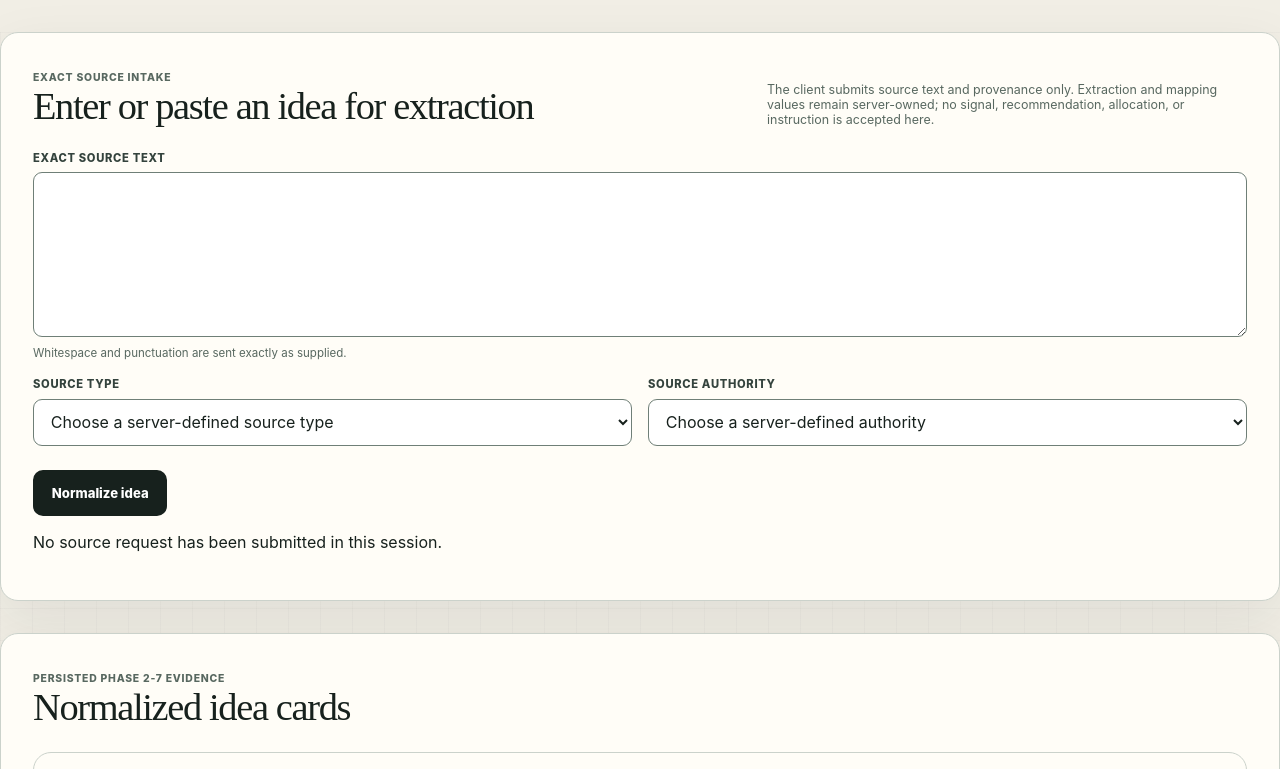
Idea Intake workspace › fails closed when source creation swaps source identity
Type "Rank a synthetic universe using lagged evidence." into the text box labelled "Exact source text".
click(640, 255); type("Rank a synthetic universe using lagged evidence.")  # box [33,172,1247,337]
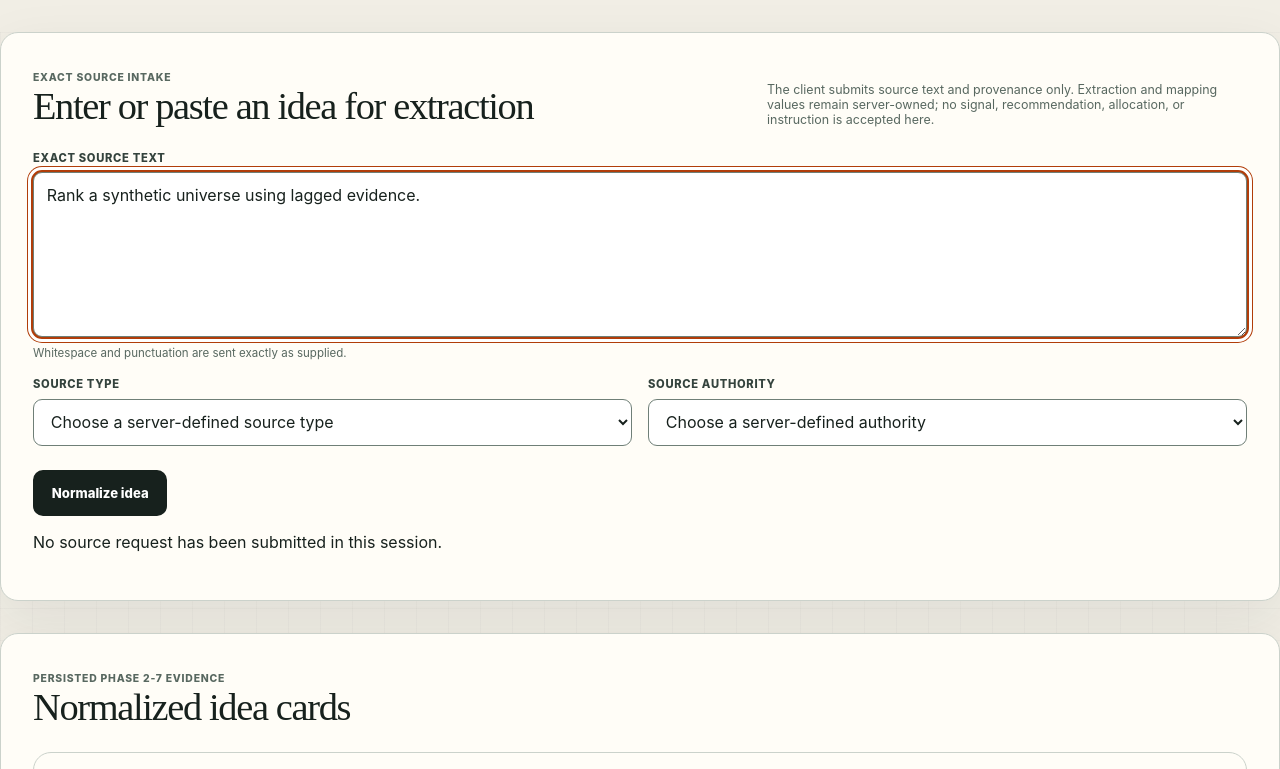
Select "manual notes" in the dropdown labelled "Source type" at (332, 422), box [33,398,632,446]
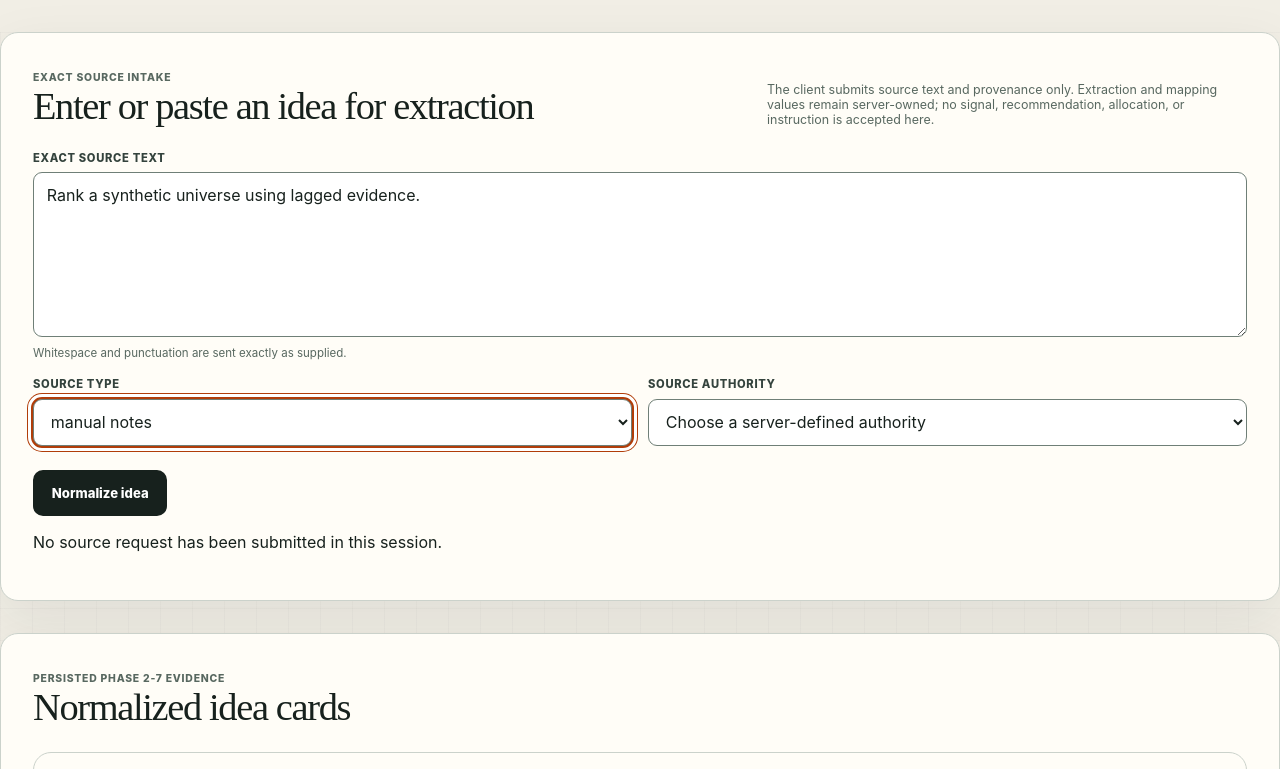
Select "unknown" in the dropdown labelled "Source authority" at (948, 422), box [648,398,1247,446]
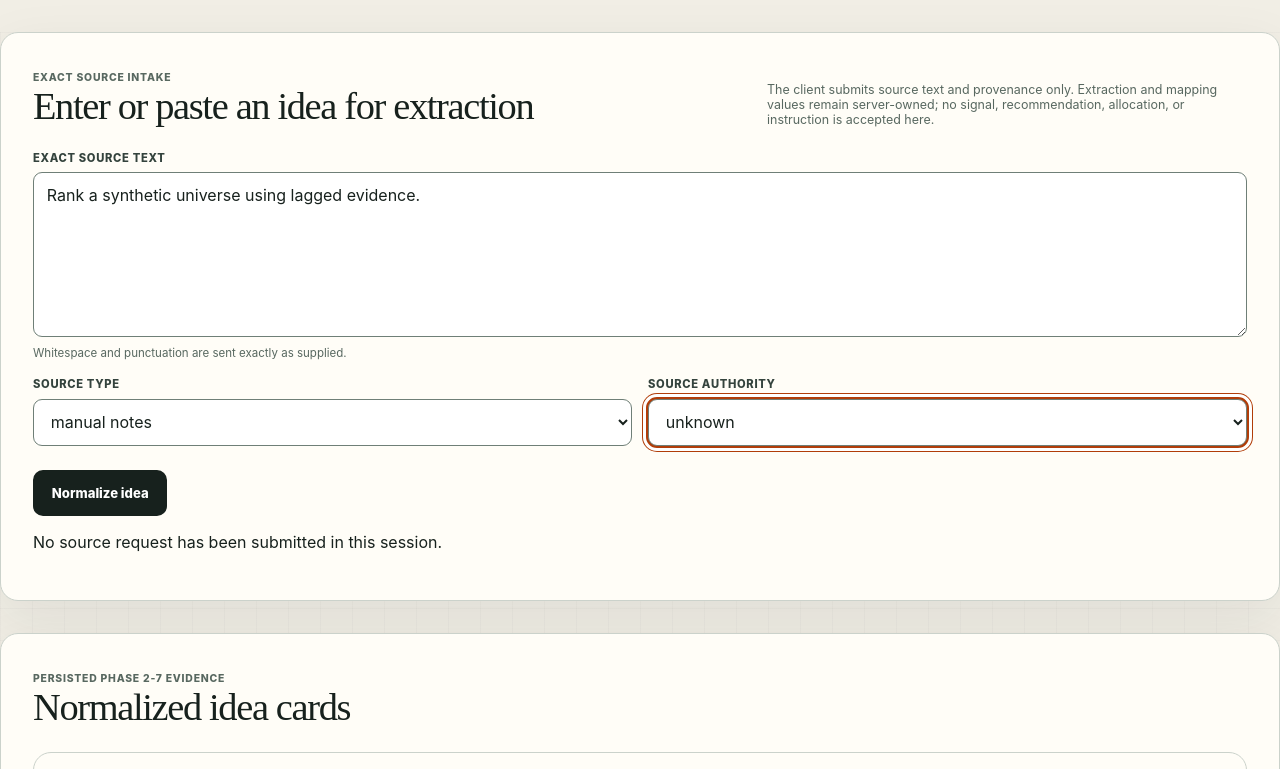
Click the button "Normalize idea".
click(100, 493)  # box [33,470,168,516]
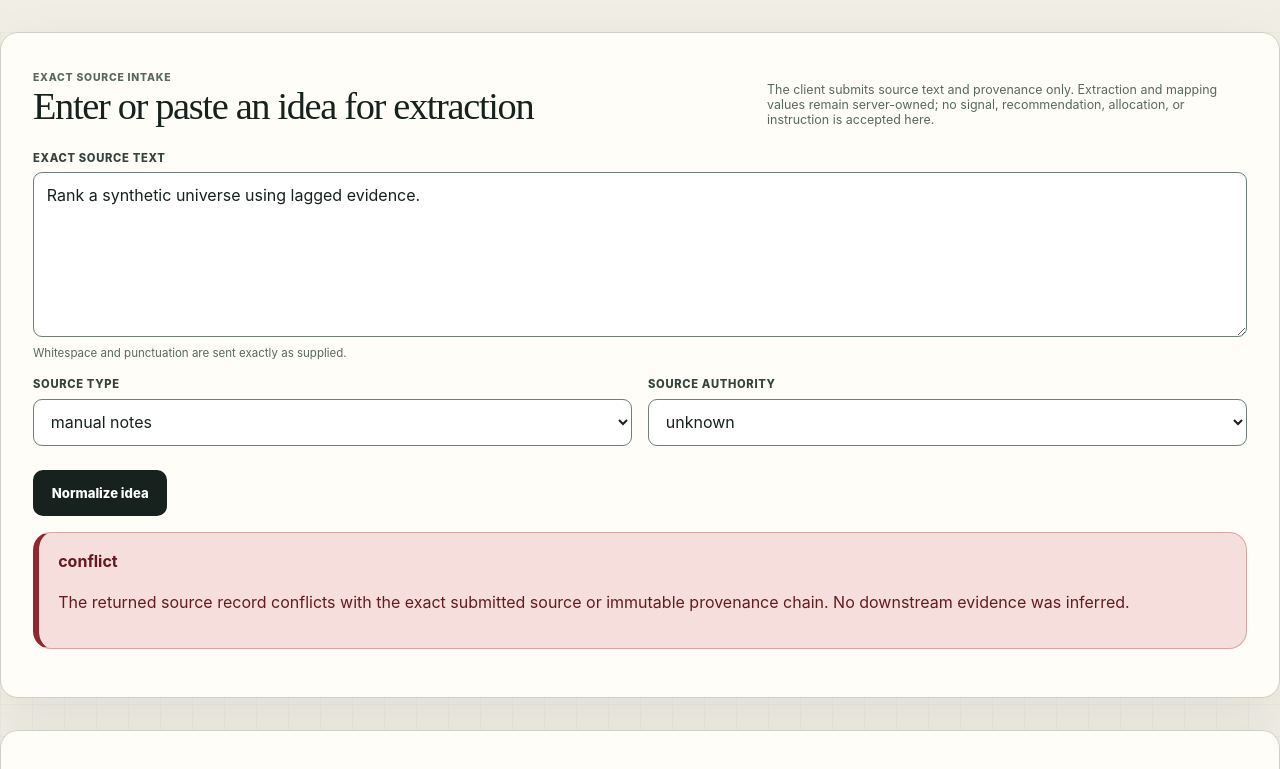
Check: the text "conflict" is shown, box [58,551,118,571]
Check: the text "returned source record conflicts" is shown, box [58,592,1130,612]
